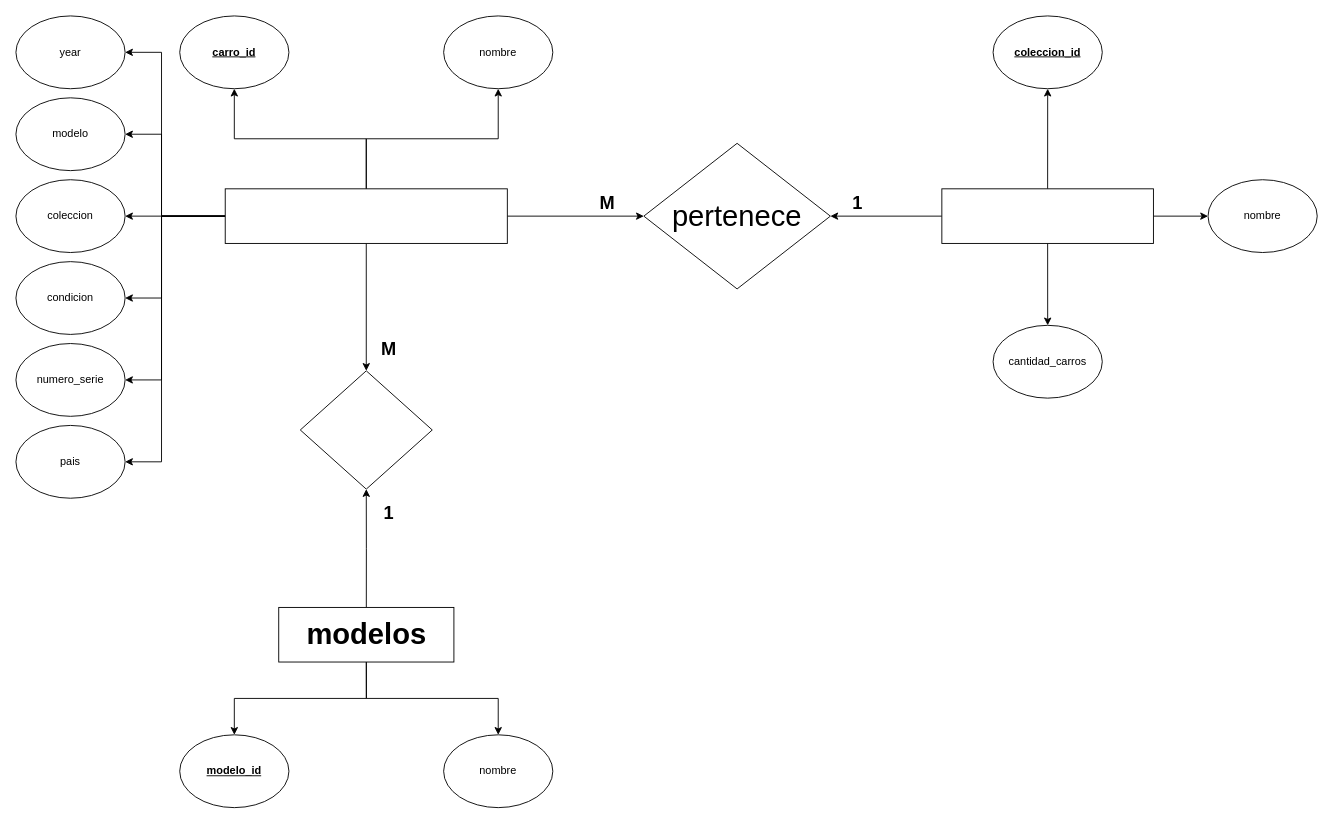
Some shapes in this 1333 by 824 pixel diagram are drawn without their labels. The box of each missing label's shape, as (x1, y1, x2, y2) in pixels:
cars_hotwheels: (224, 188, 507, 243)
colecciones: (941, 188, 1153, 243)
tiene: (299, 370, 432, 489)
